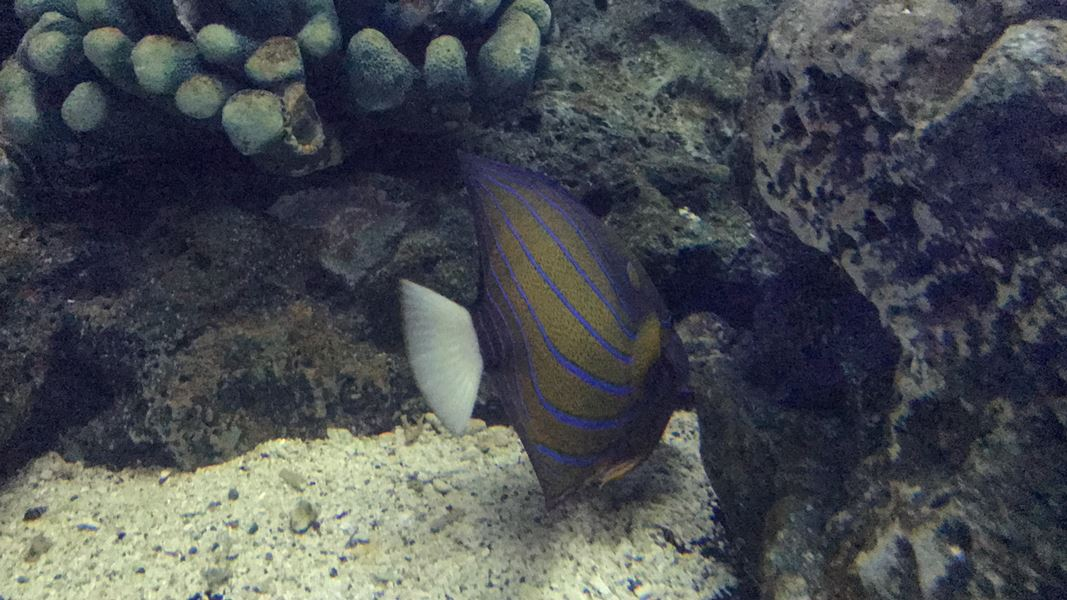Blue ring angelfish: (380, 127, 728, 511)
